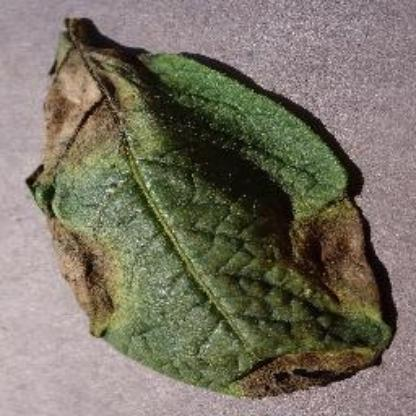Late-Blight: (24, 7, 400, 400)
